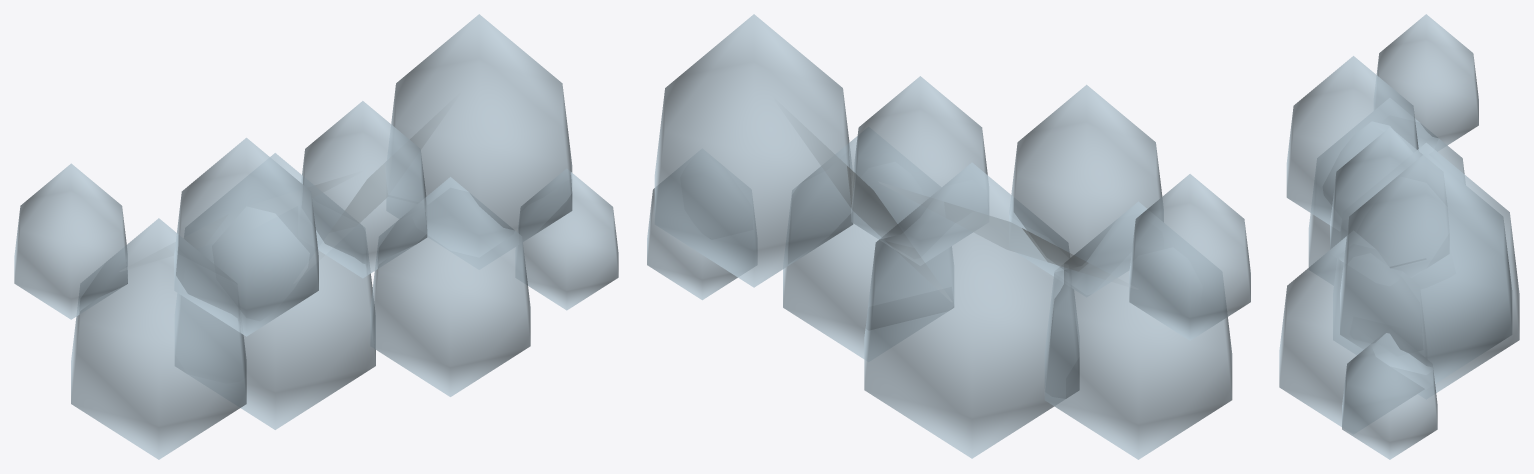
File: wet_cloth_contact.glb
3 renders of one model, left to right at view 1: azimuth 30°, elevation 25°; view 2: azimuth 150°, elevation 25°; view 3: azimuth 270°, elevation 25°, orthographic. The views are drawn at different scales.
Visible parts, largest first — view 1: drop_03, drop_06, drop_01, drop_05, drop_02, drop_04, drop_00, drop_07, fiber_01; view 2: drop_03, drop_06, drop_01, drop_05, drop_02, drop_04, drop_00, drop_07, fiber_00, fiber_01; view 3: drop_06, drop_05, drop_03, drop_02, drop_00, drop_07, drop_04, drop_01.
Part boxes in pixels (left/top/right/bottom): drop_03: left=175, top=153, right=375, bottom=429; drop_06: left=387, top=14, right=572, bottom=268; drop_01: left=71, top=218, right=246, bottom=459; drop_05: left=370, top=177, right=530, bottom=396; drop_02: left=174, top=137, right=318, bottom=336; drop_04: left=301, top=101, right=427, bottom=277; drop_00: left=14, top=163, right=127, bottom=319; drop_07: left=516, top=169, right=618, bottom=310; fiber_01: left=345, top=132, right=418, bottom=222; drop_03: left=864, top=162, right=1079, bottom=458; drop_06: left=654, top=14, right=853, bottom=287; drop_01: left=1044, top=201, right=1232, bottom=459; drop_05: left=783, top=127, right=953, bottom=361; drop_02: left=1009, top=84, right=1163, bottom=296; drop_04: left=851, top=76, right=988, bottom=265; drop_00: left=1129, top=174, right=1250, bottom=340; drop_07: left=647, top=148, right=756, bottom=300; fiber_00: left=944, top=202, right=1088, bottom=271; fiber_01: left=819, top=141, right=915, bottom=251; drop_06: left=1340, top=152, right=1512, bottom=388; drop_05: left=1279, top=231, right=1426, bottom=433; drop_03: left=1333, top=142, right=1519, bottom=398; drop_02: left=1286, top=56, right=1418, bottom=230; drop_00: left=1374, top=14, right=1478, bottom=150; drop_07: left=1342, top=328, right=1437, bottom=459; drop_04: left=1330, top=127, right=1448, bottom=267; drop_01: left=1308, top=98, right=1464, bottom=284.
Bounding box in the file's own units: 0.0086 × 0.00515 × 0.0033.
